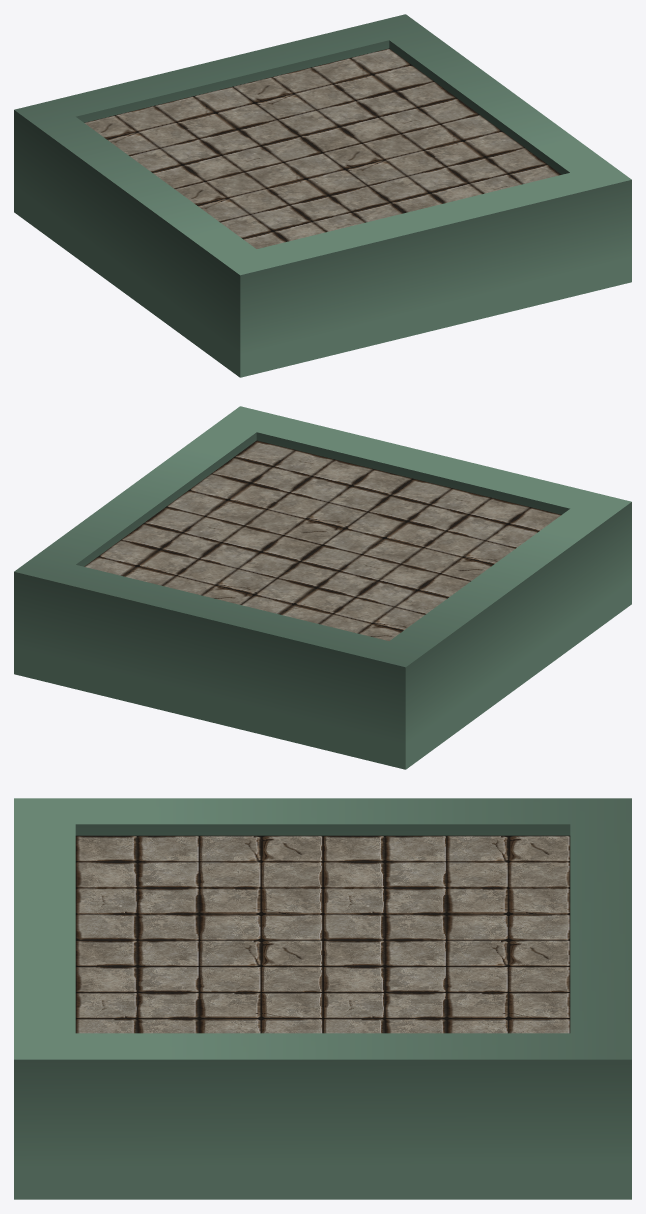
Rendered from TILE_000_Empty.fbx.
3 renders of one model, top to bottom at view 1: azimuth 30°, elevation 25°; view 2: azimuth 150°, elevation 25°; view 3: azimuth 270°, elevation 25°, orthographic. The views are drawn at different scales.
Visible parts, largest first — view 1: TILE_001_Empty; view 2: TILE_001_Empty; view 3: TILE_001_Empty.
Boxes of the visible parts, x1=… form: TILE_001_Empty: x1=14, y1=14, x2=631, y2=377; TILE_001_Empty: x1=14, y1=406, x2=631, y2=769; TILE_001_Empty: x1=14, y1=798, x2=631, y2=1199.
Size of the model in its own units: 98.43 by 24.61 by 98.43.
